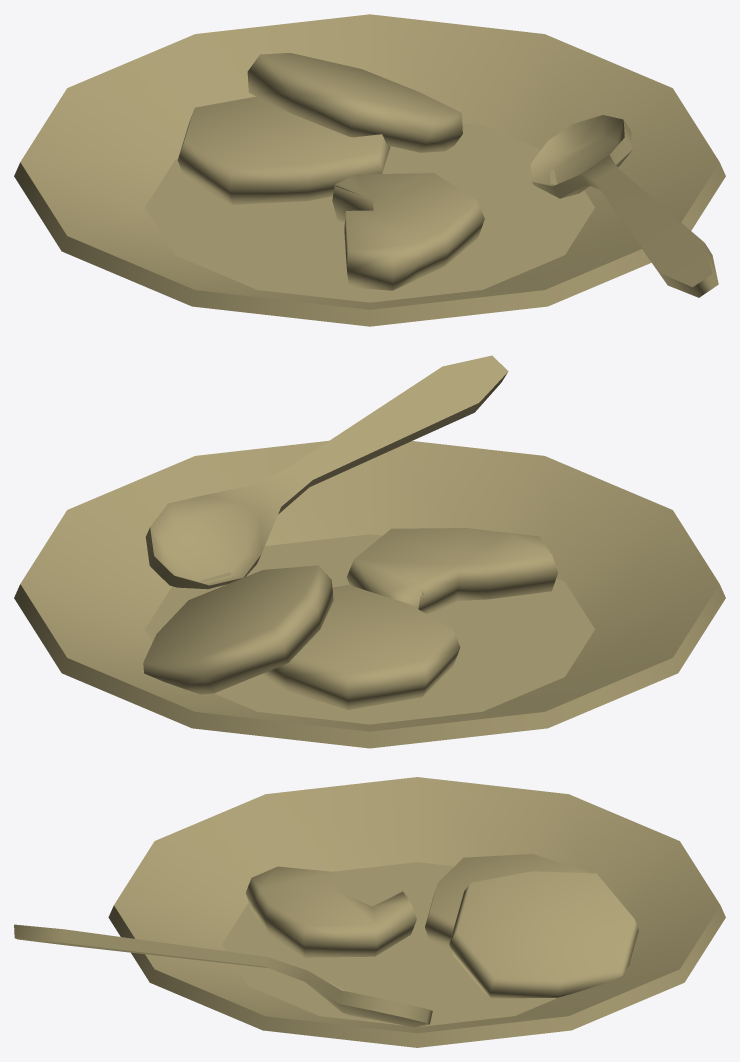
File: room_dish_mesh_01.fbx
3 views of the same model, one above another, from view 1: azimuth 30°, elevation 25°; view 2: azimuth 150°, elevation 25°; view 3: azimuth 270°, elevation 25° (orthographic). The views are drawn at different scales.
Visible parts, largest first — view 1: pCube240; view 2: pCube240; view 3: pCube240.
Boxes of the visible parts, left/top/right/bottom form: pCube240: left=14, top=14, right=725, bottom=326; pCube240: left=14, top=355, right=725, bottom=748; pCube240: left=14, top=777, right=725, bottom=1047.
Bounding box in the file's own units: 20.36 × 3.13 × 23.47.
